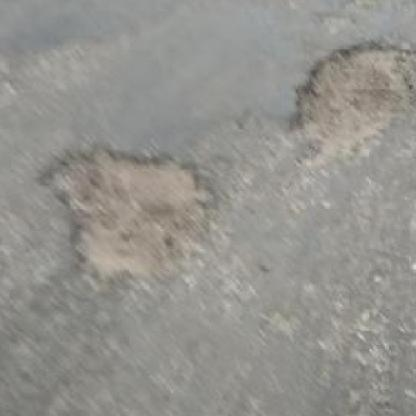pothole: (30, 137, 224, 286), (282, 37, 416, 171)
